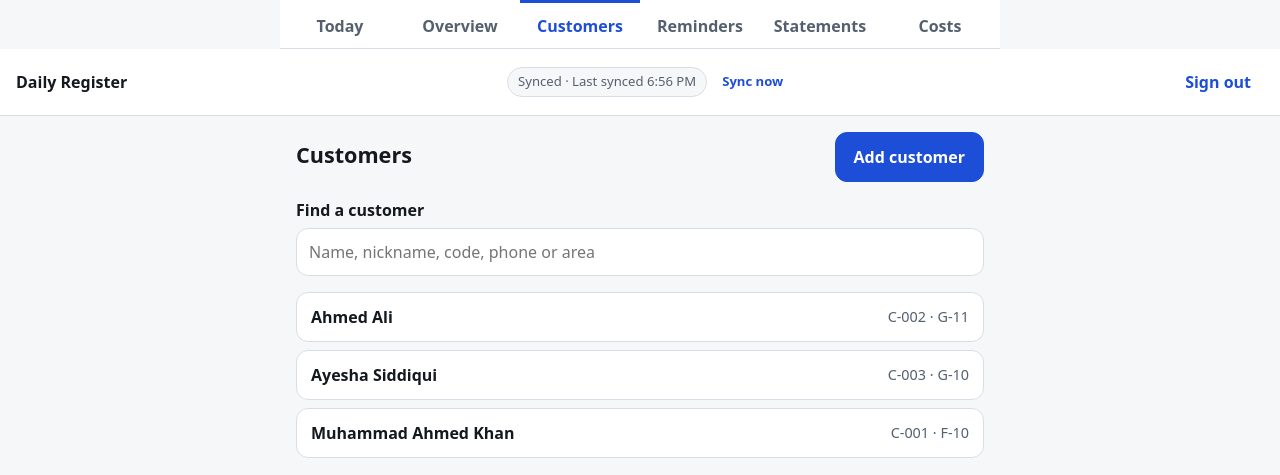
Scenario: searching from the customer list › searches this device instead when the network fails, and says so
Expected: the text "Ayesha Siddiqui" is shown, [311,363,437,387]
Type "Chacha Ahmed" into the search field labelled "Find a customer" at (640, 252), box [296,228,984,276]
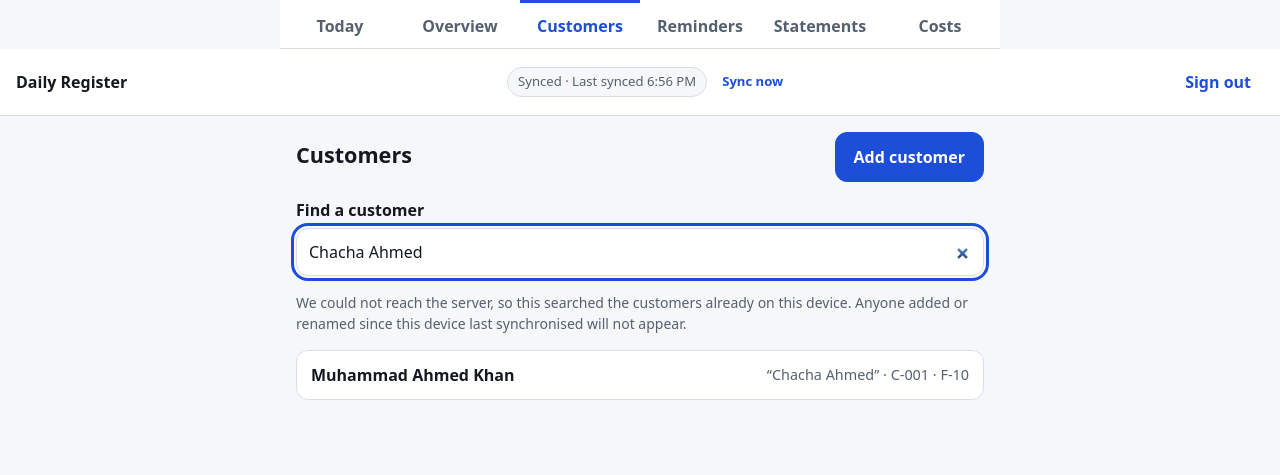
Expected: the text "Muhammad Ahmed Khan" is shown, [311,363,514,387]
Expected: the text "could not reach the server, so this searched the customers already on this device" is shown, [296,293,851,312]
